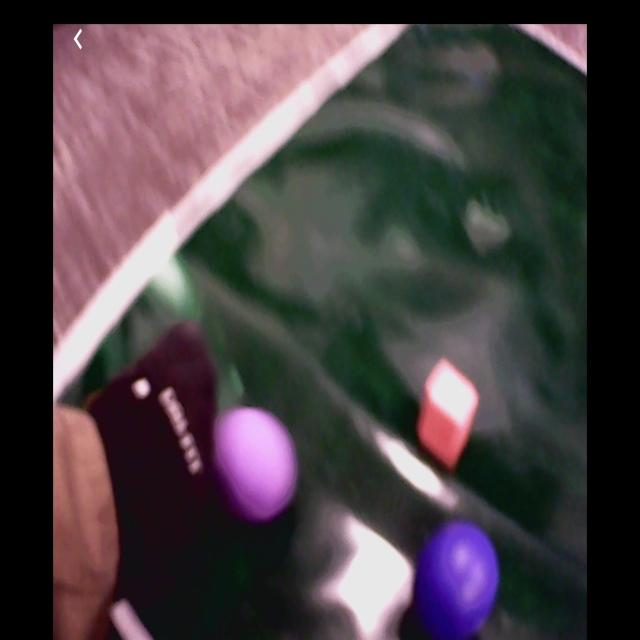ball: (220, 407, 299, 520), (424, 523, 499, 636)
